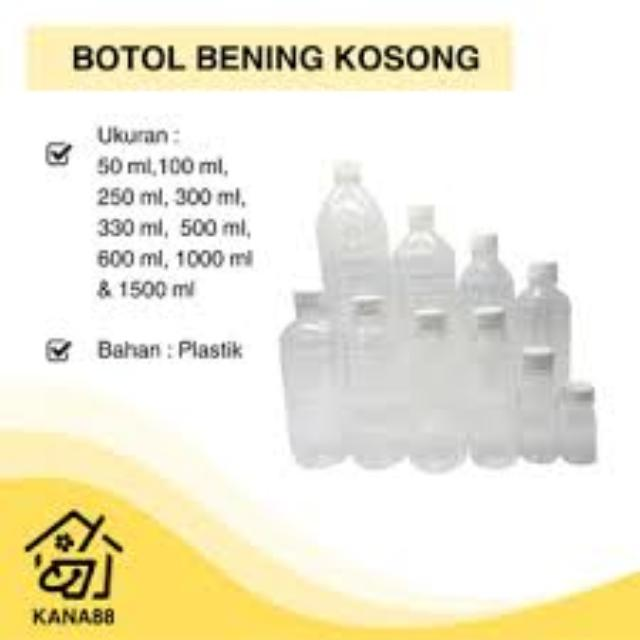trash: (314, 156, 396, 336), (338, 293, 408, 471), (278, 286, 346, 468), (399, 304, 468, 474), (394, 192, 456, 344), (510, 258, 574, 400), (466, 305, 520, 469), (457, 224, 518, 354), (520, 343, 560, 465), (560, 378, 598, 466)
